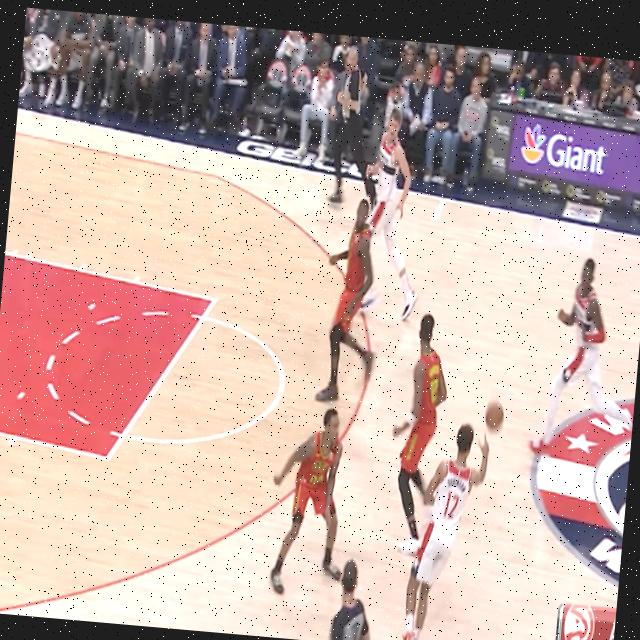no foul: (365, 303, 501, 640), (298, 83, 418, 430)
